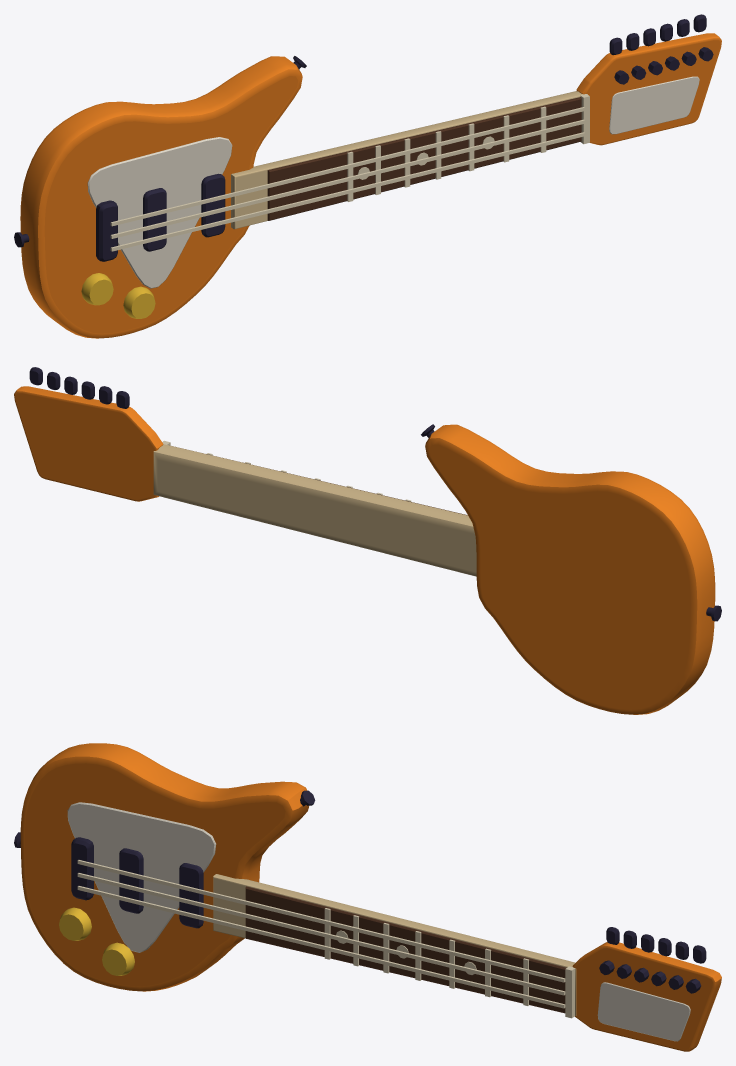
The model's file is offcut.glb.
3 views of the same model, one above another, from view 1: azimuth 30°, elevation 25°; view 2: azimuth 150°, elevation 25°; view 3: azimuth 330°, elevation 25° (orthographic). The views are drawn at different scales.
Parts seen in each view (by area): view 1: offcut_body; view 2: offcut_body; view 3: offcut_body.
Part boxes in pixels (box(x1,y1,x2,y2)): offcut_body: box(14, 14, 721, 338); offcut_body: box(14, 367, 721, 714); offcut_body: box(14, 743, 721, 1051).
Bounding box in the file's own units: 1.09 × 0.3472 × 0.0765.
